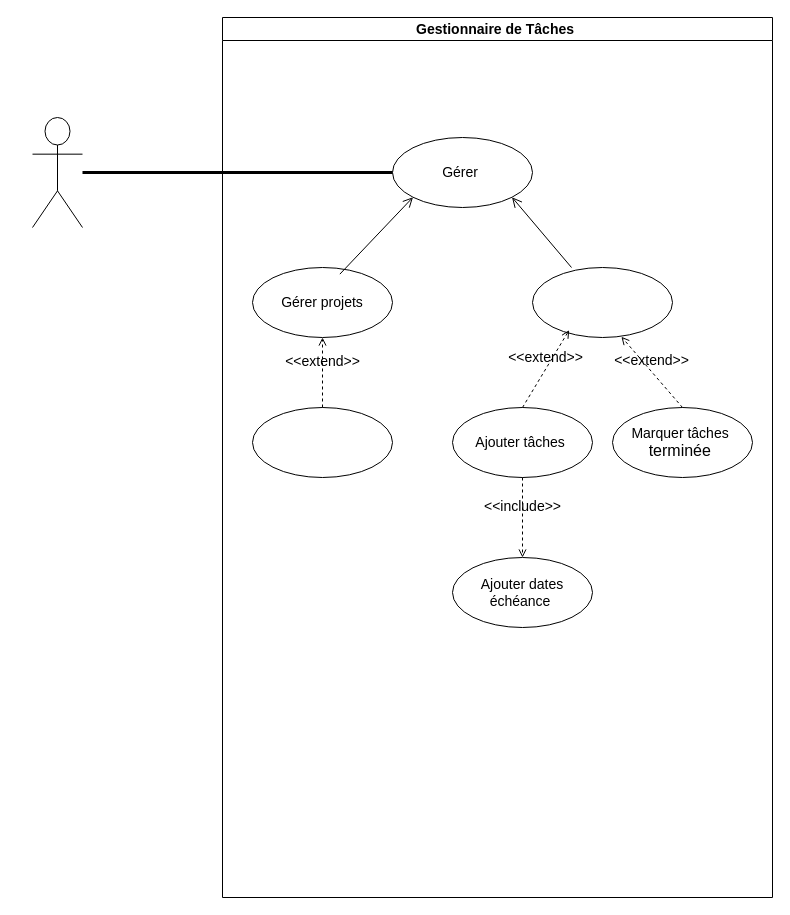
The diagram is 790 pixels wide and 915 high, and some of its shapes have lost their labels. The box of each missing label's shape, as (x1, y1, x2, y2) in pixels:
Créer projets: (252, 406, 392, 478)
Gérer tâches: (532, 266, 672, 338)
Utilisateur: (32, 116, 82, 228)
